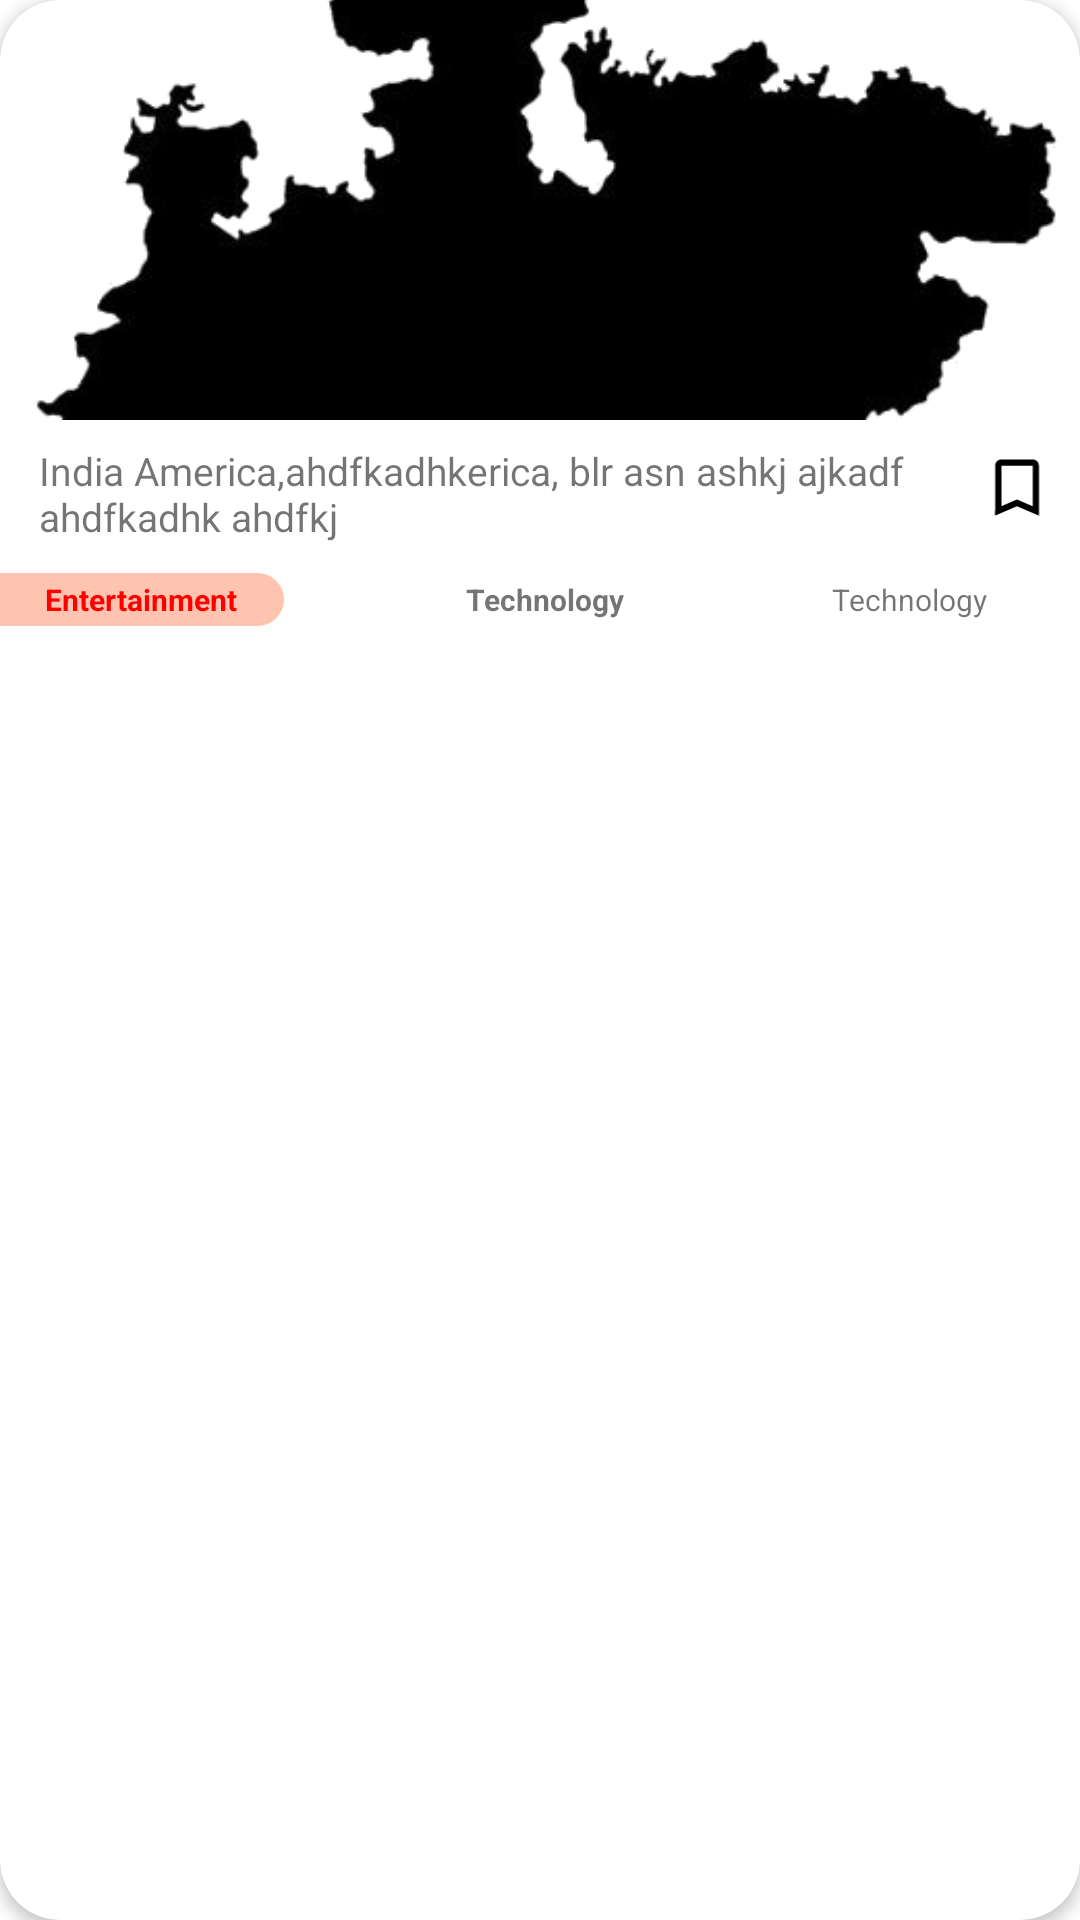

Named icons in this screenshot (1080px×1920px) and their bounding boxes, box=[x1, y1, x2, y2]:
save without border: box=[994, 459, 1040, 516]
